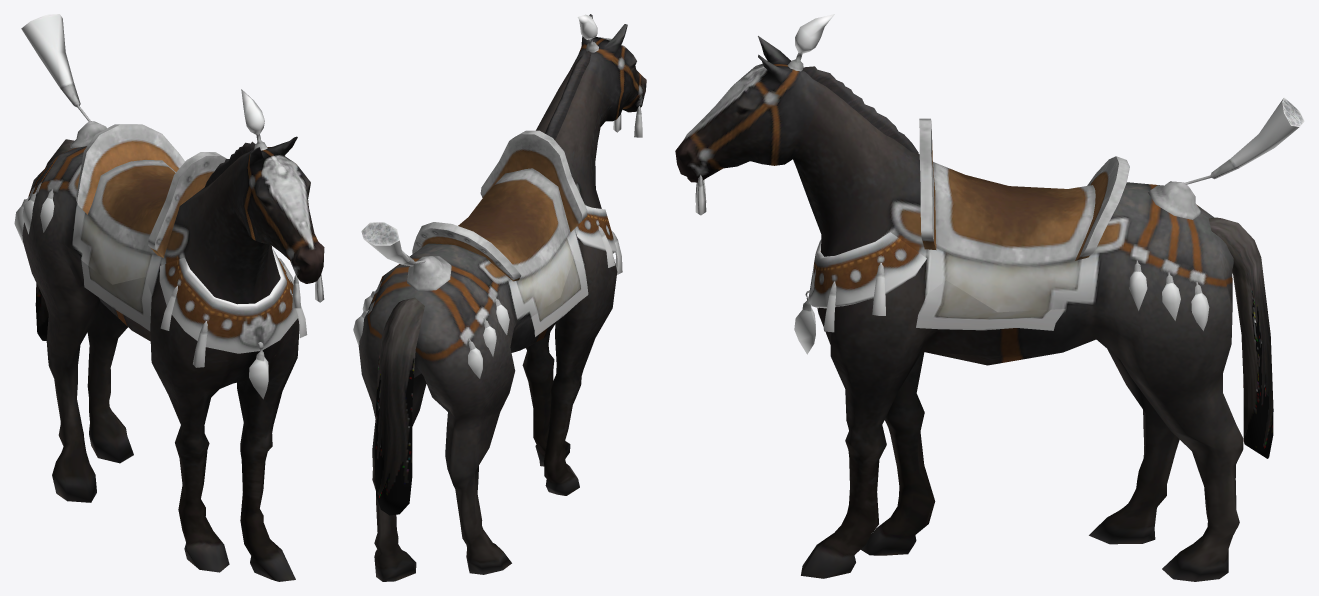
Rendered from body-championarchers.glb.
The picture shows the model from 3 angles, left to right: view 1: azimuth 30°, elevation 25°; view 2: azimuth 150°, elevation 25°; view 3: azimuth 270°, elevation 25°; orthographic projection. The views are drawn at different scales.
Size of the model in its own units: 0.8206 by 2.65 by 2.79.
1 material, 1 textured.
